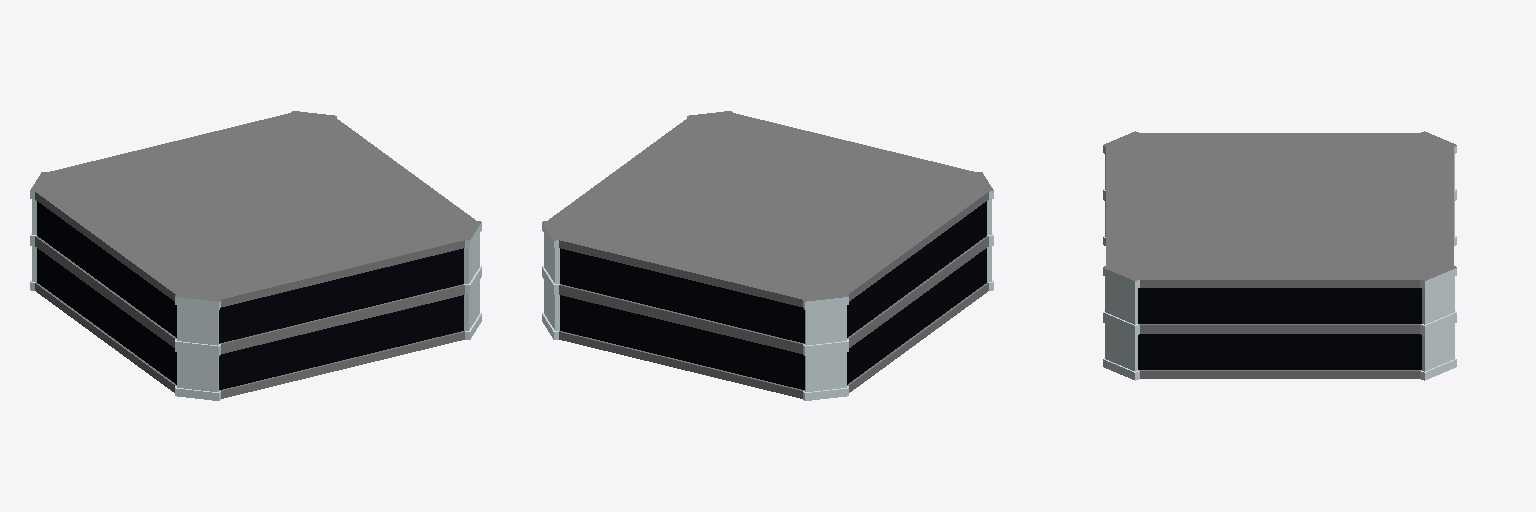
Rendered from buildingD2.obj.
3 renders of one model, left to right at view 1: azimuth 30°, elevation 25°; view 2: azimuth 150°, elevation 25°; view 3: azimuth 270°, elevation 25°, orthographic.
Parts seen in each view (by area): view 1: Cube.004_Cube.010; view 2: Cube.004_Cube.010; view 3: Cube.004_Cube.010.
Boxes of the visible parts, box(x1,y1,x2,y2) form: Cube.004_Cube.010: box(30, 111, 481, 400); Cube.004_Cube.010: box(542, 111, 993, 400); Cube.004_Cube.010: box(1103, 131, 1456, 380).
Bounding box in the file's own units: 9.97 × 3.09 × 9.97.